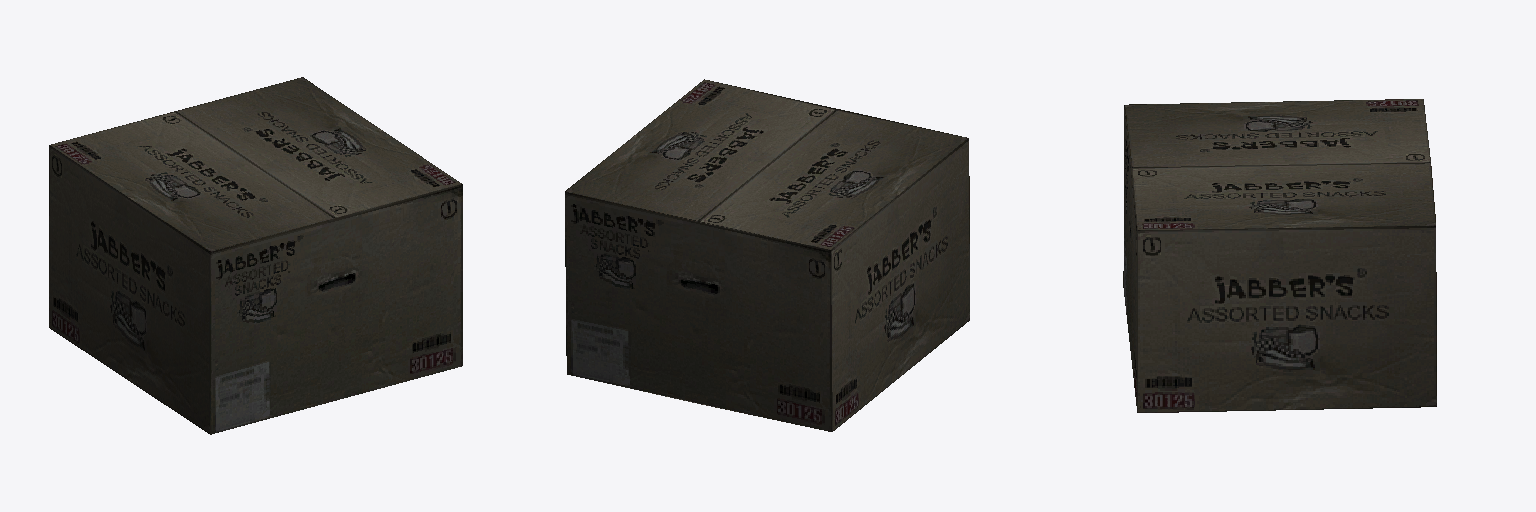
3 views of the same model, side by side, from view 1: azimuth 30°, elevation 25°; view 2: azimuth 150°, elevation 25°; view 3: azimuth 270°, elevation 25° (orthographic).
Parts seen in each view (by area): view 1: Object_Model001_Material001; view 2: Object_Model001_Material001; view 3: Object_Model001_Material001.
Boxes of the visible parts, x1=… form: Object_Model001_Material001: x1=49, y1=77, x2=462, y2=434; Object_Model001_Material001: x1=565, y1=79, x2=969, y2=431; Object_Model001_Material001: x1=1123, y1=99, x2=1436, y2=412.
Size of the model in its own units: 2.5 by 1.61 by 2.5.
1 materials, 1 textured.